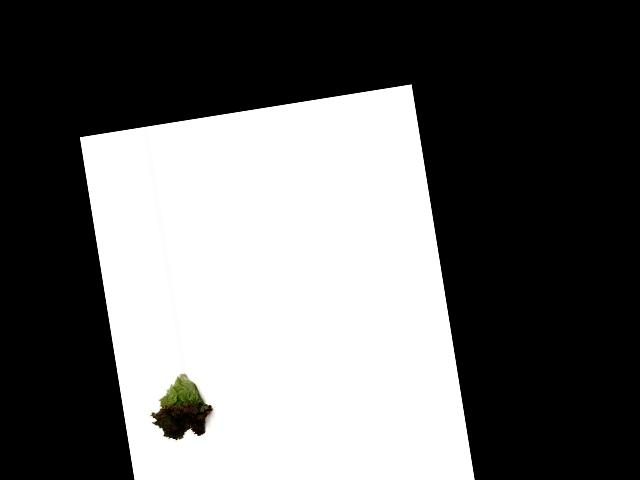lettuce: (142, 367, 223, 451)
